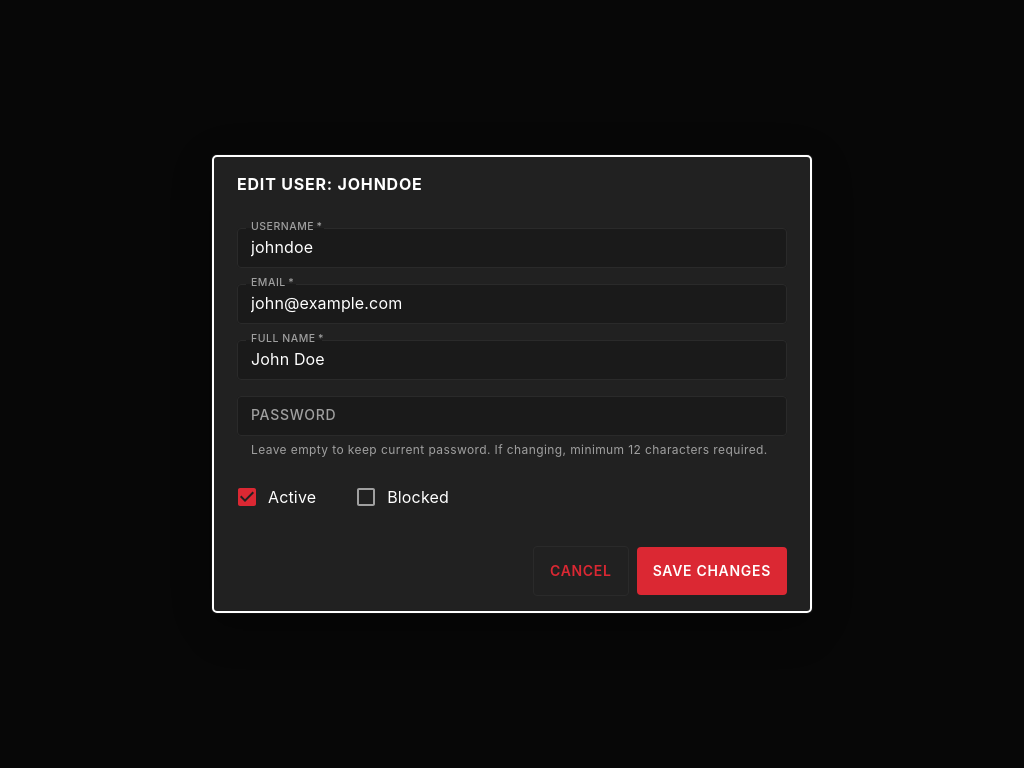
Test: EditUserModal › Deactivation warning › names both changes when deactivating and blocking at once
What coordinates should you click on to do the following:
click the checkbox labelled "Active"
I would click on:
 (276, 497)
Its box is x1=235 y1=485 x2=316 y2=509.
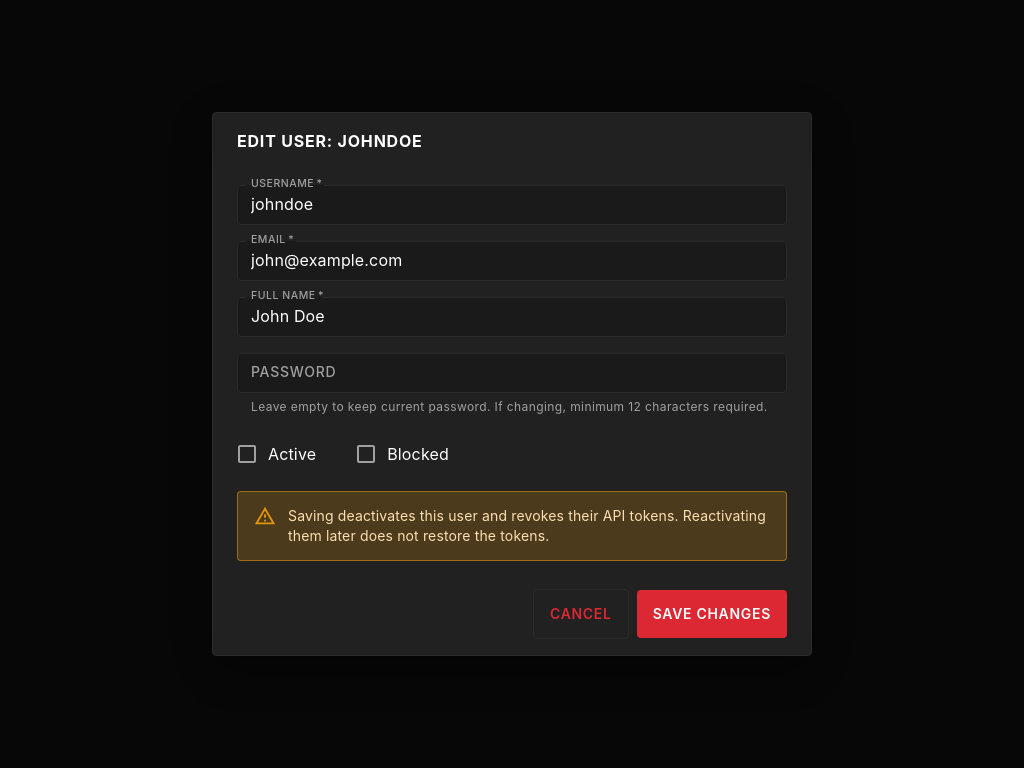
What coordinates should you click on to do the following:
click the checkbox labelled "Blocked"
I would click on:
 (402, 454)
Its box is x1=354 y1=442 x2=449 y2=466.
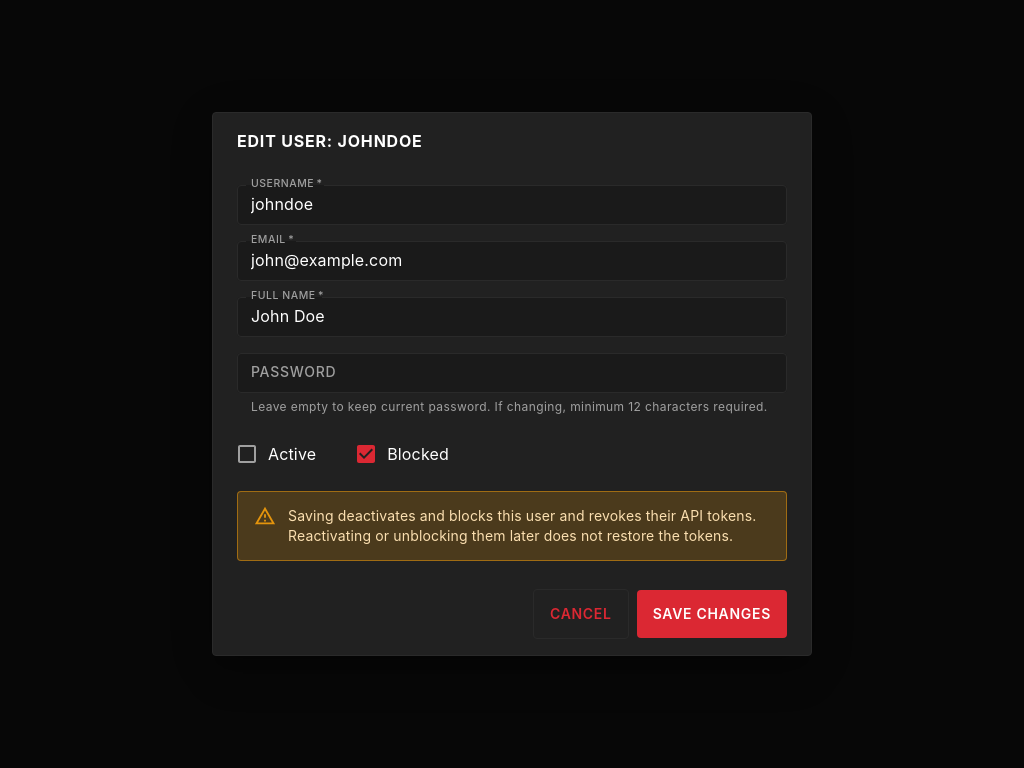
Now the text "deactivates and blocks this user" is shown, box x1=288 y1=507 x2=756 y2=544
